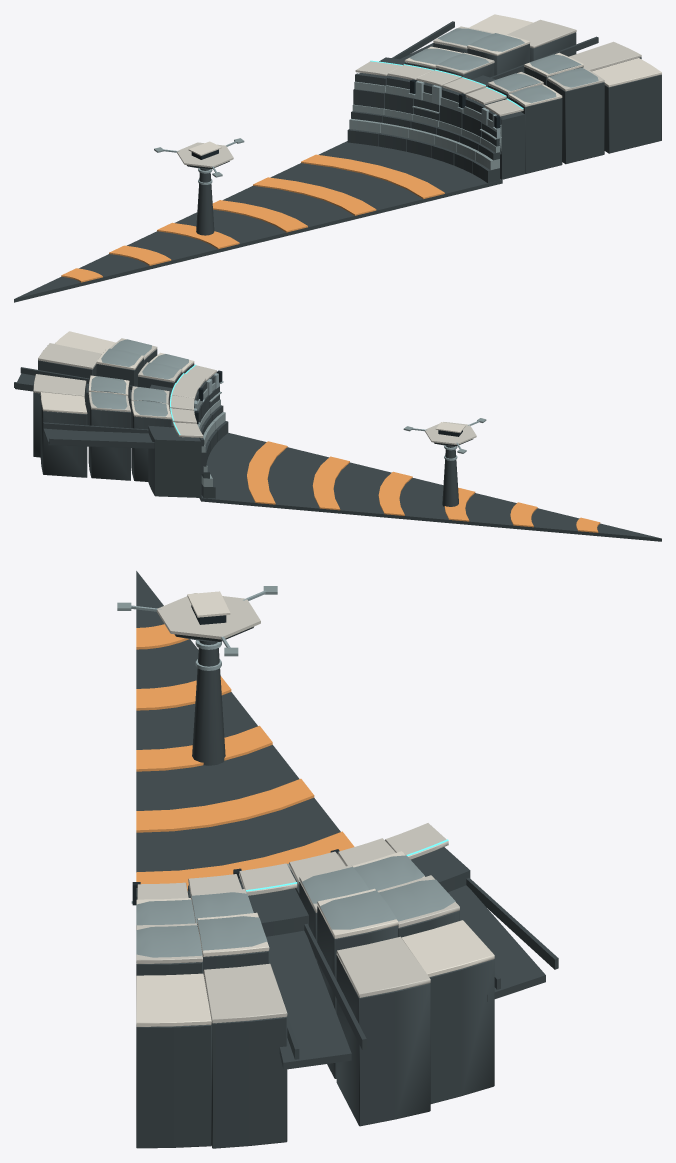
Rendered from Weather_Lung_Sector_00_Structure.glb.
3 views of the same model, one above another, from view 1: azimuth 30°, elevation 25°; view 2: azimuth 150°, elevation 25°; view 3: azimuth 270°, elevation 25° (orthographic). The views are drawn at different scales.
Visible parts, largest first — view 1: Weather_Lung_Sector_00_Structure; view 2: Weather_Lung_Sector_00_Structure; view 3: Weather_Lung_Sector_00_Structure.
Part boxes in pixels (<box>): Weather_Lung_Sector_00_Structure: <box>14,14,661,302</box>; Weather_Lung_Sector_00_Structure: <box>14,331,661,541</box>; Weather_Lung_Sector_00_Structure: <box>117,571,558,1148</box>.
Size of the model in its own units: 13417 by 1721 by 4253.
